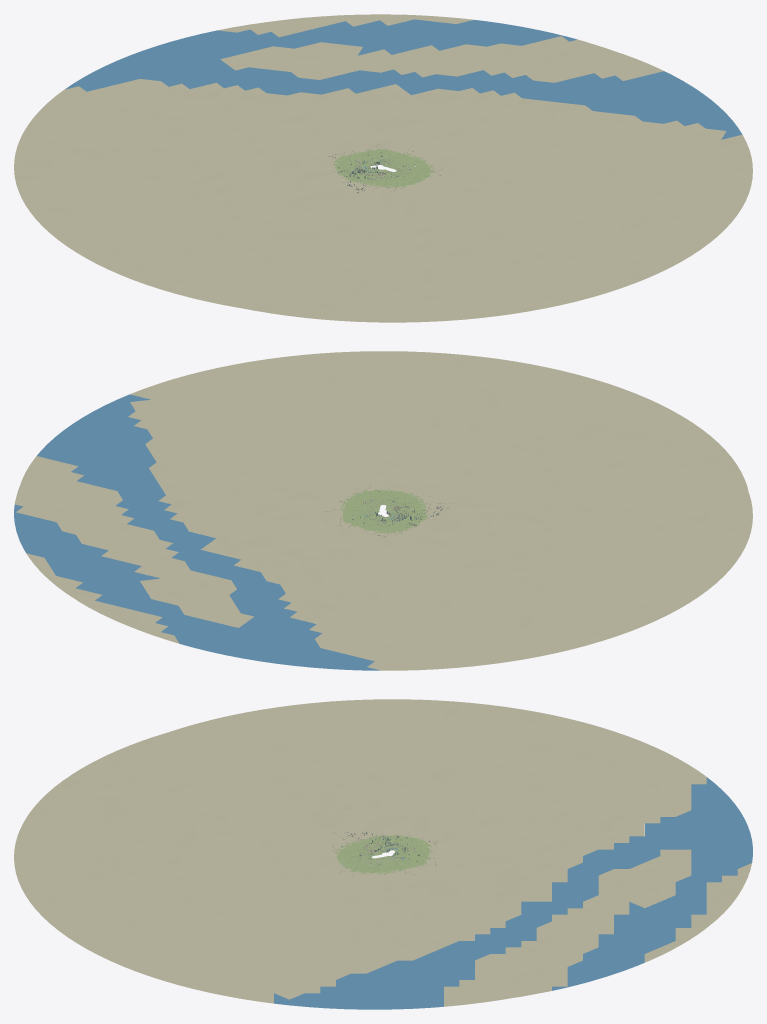
Rendered from backdrop.glb.
3 views of the same model, one above another, from view 1: azimuth 30°, elevation 25°; view 2: azimuth 150°, elevation 25°; view 3: azimuth 270°, elevation 25° (orthographic). The views are drawn at different scales.
Visible parts, largest first — view 1: backdrop_horizon_land, backdrop_horizon_water, backdrop_terrain_grass; view 2: backdrop_horizon_land, backdrop_horizon_water, backdrop_terrain_grass; view 3: backdrop_horizon_land, backdrop_horizon_water, backdrop_terrain_grass.
Boxes of the visible parts, x1=… form: backdrop_horizon_land: x1=14, y1=14, x2=752, y2=322; backdrop_horizon_water: x1=65, y1=19, x2=742, y2=139; backdrop_terrain_grass: x1=332, y1=149, x2=434, y2=187; backdrop_horizon_land: x1=14, y1=351, x2=752, y2=670; backdrop_horizon_water: x1=14, y1=394, x2=380, y2=670; backdrop_terrain_grass: x1=340, y1=488, x2=427, y2=533; backdrop_horizon_land: x1=14, y1=699, x2=751, y2=1006; backdrop_horizon_water: x1=274, y1=777, x2=752, y2=1009; backdrop_terrain_grass: x1=335, y1=835, x2=431, y2=874.
Bounding box in the file's own units: 71298 × 347 × 71745.
